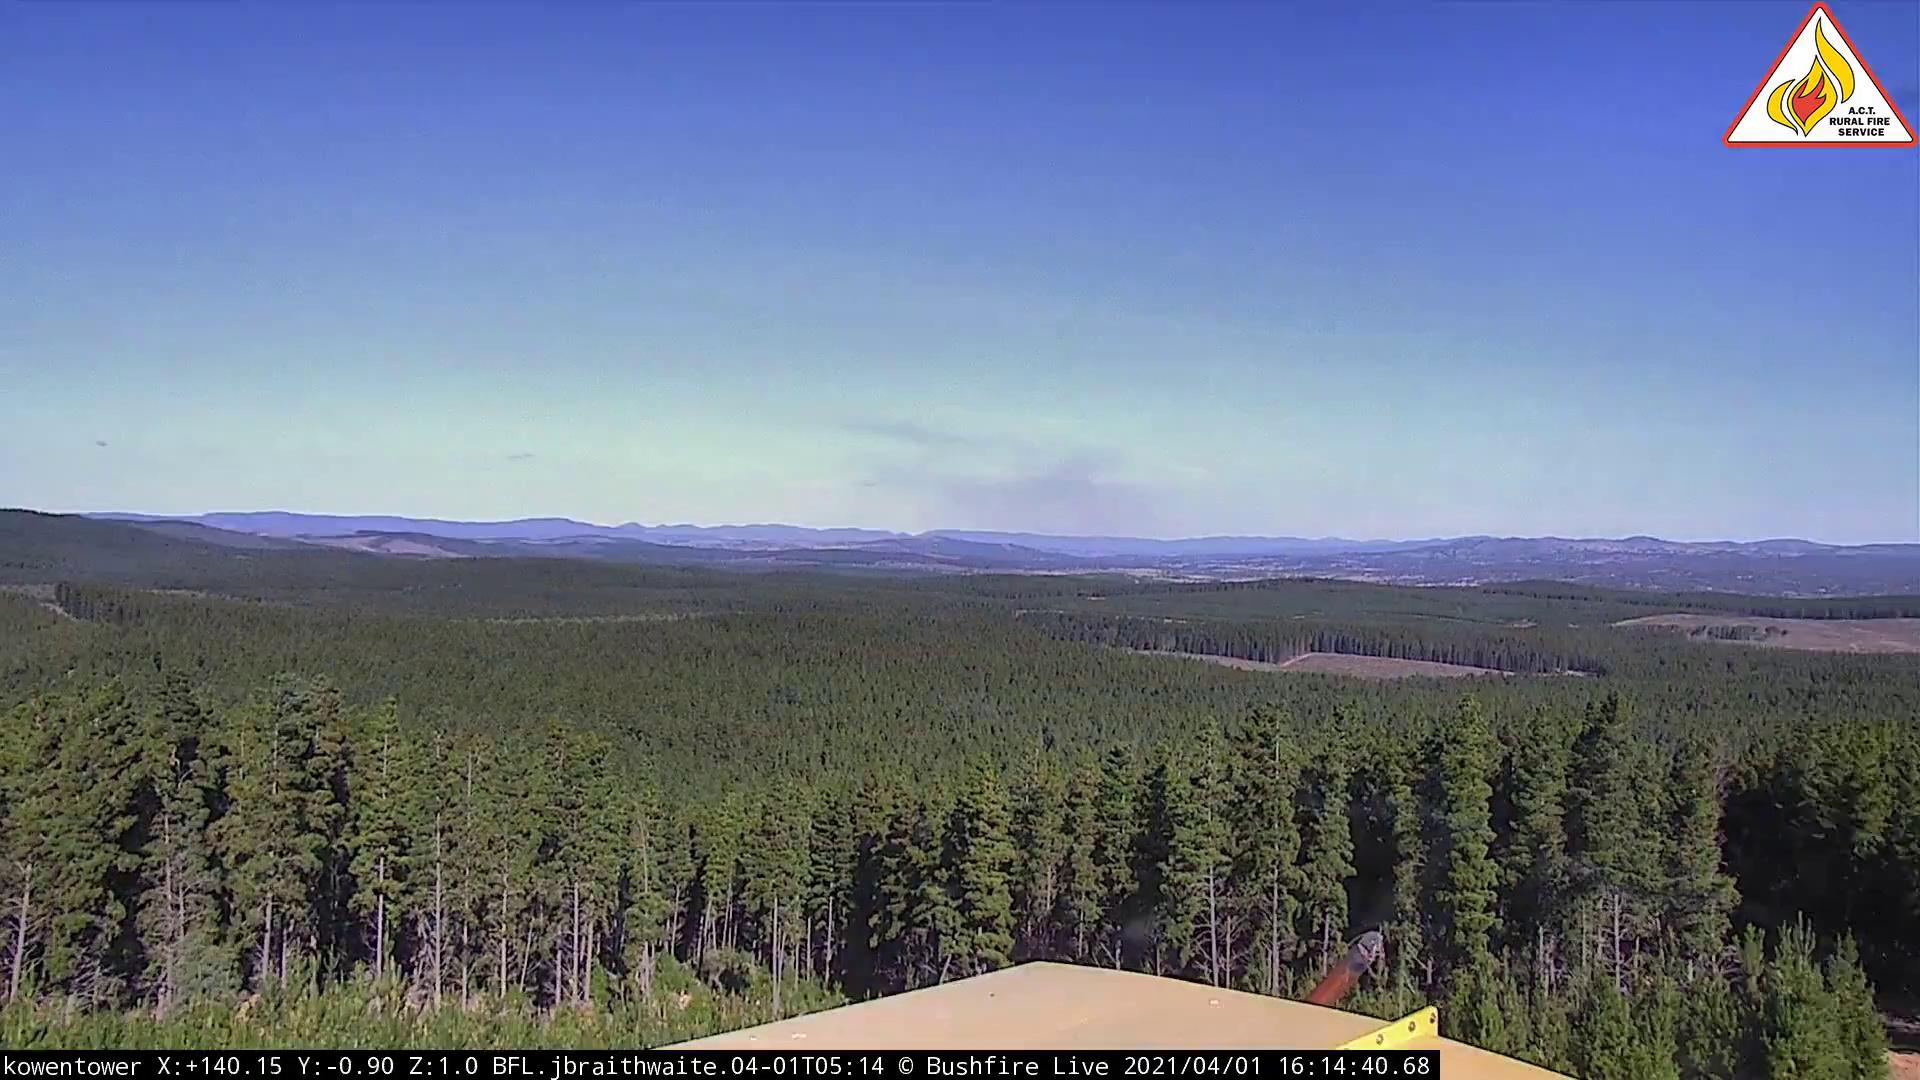instance_salient_object: (840, 401, 1333, 564)
